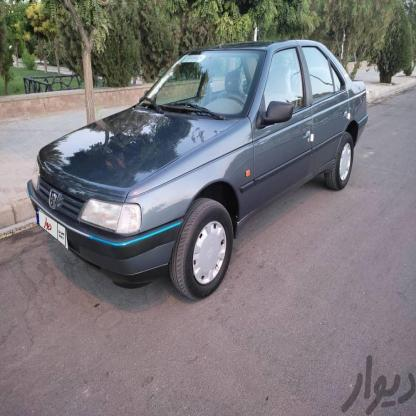Car: (24, 39, 371, 319)
